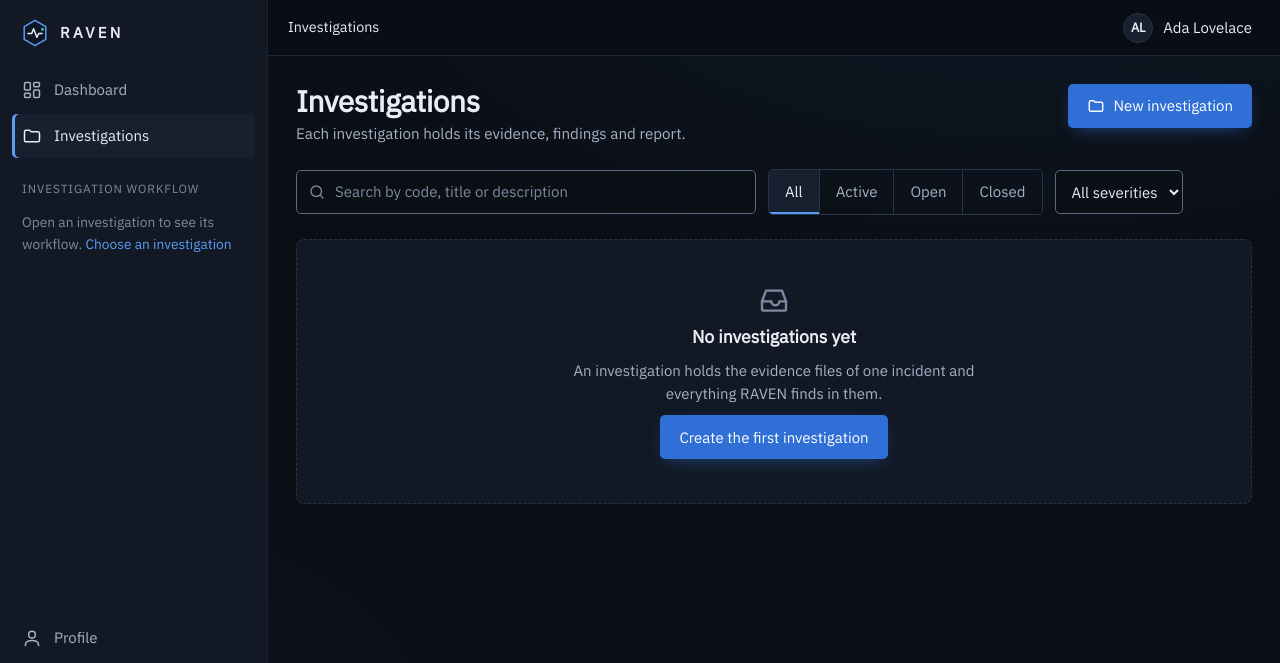
Scenario: Investigations list › is honest when there are no investigations at all
Check: the heading "No investigations yet" is shown, box [692,326,856,349]
Click the button "Create the first investigation": (774, 437) [660,415,888,459]
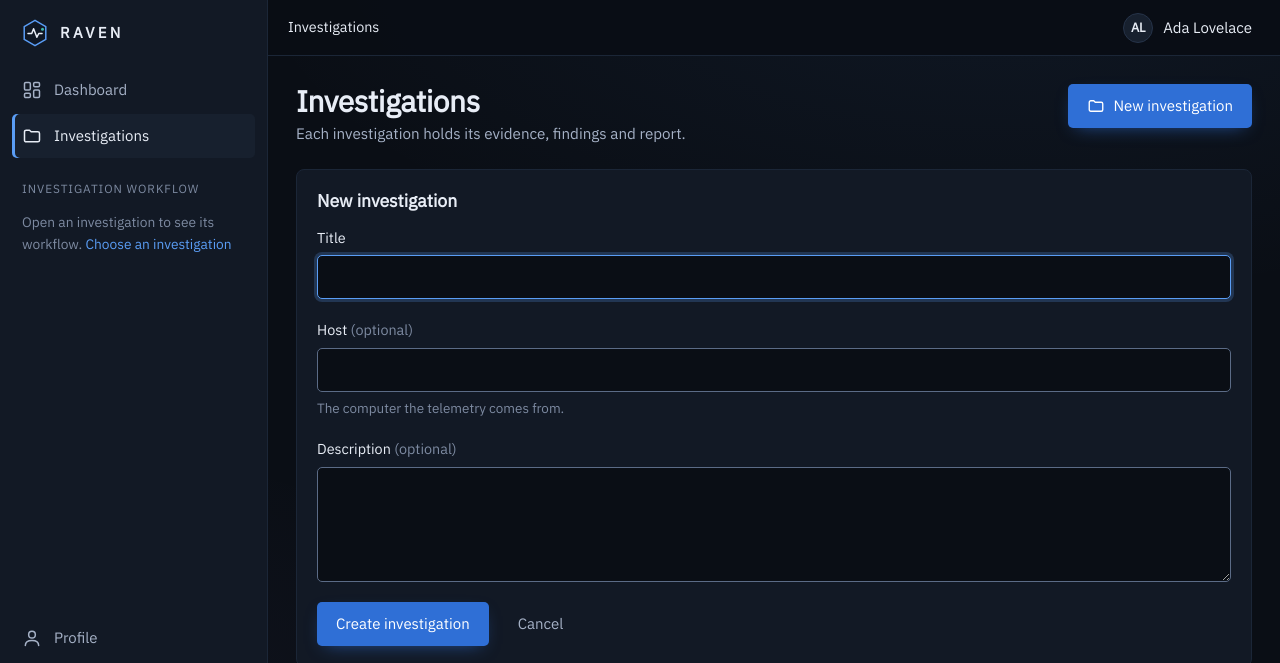
Check: the heading "New investigation" is shown, box [317,190,457,213]
